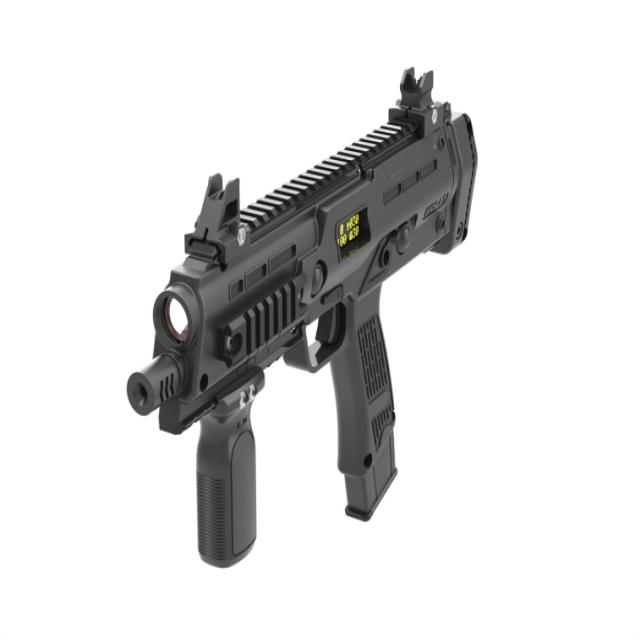firearm: (128, 67, 478, 570)
